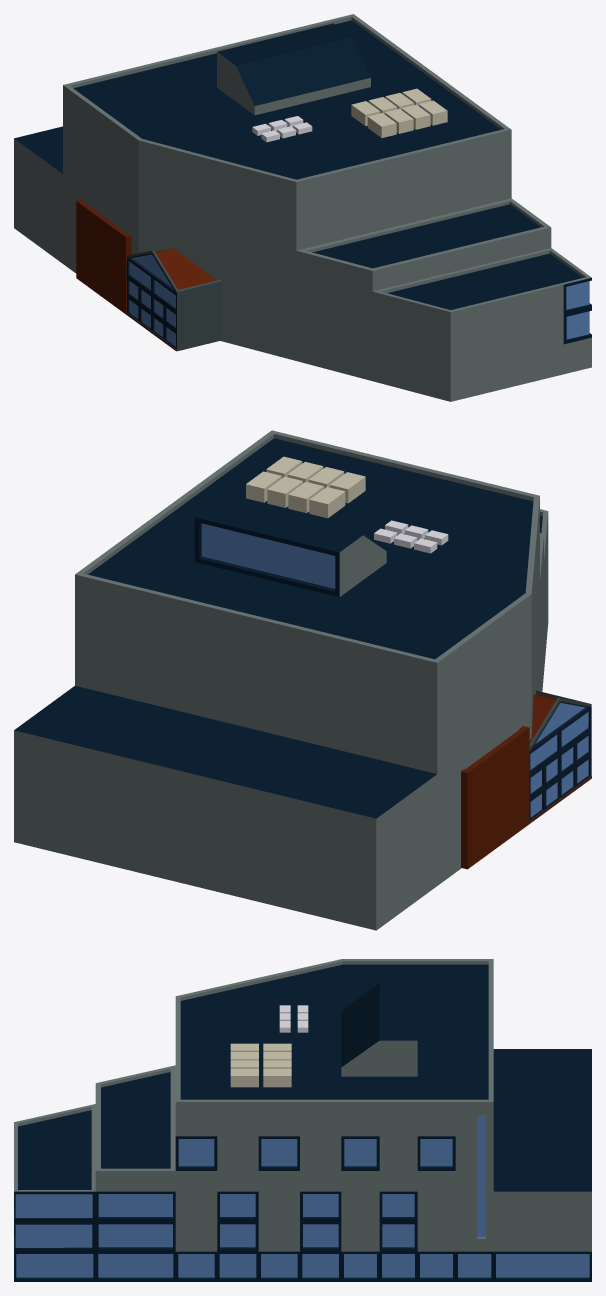
File: Buildings.fbx
3 views of the same model, one above another, from view 1: azimuth 30°, elevation 25°; view 2: azimuth 150°, elevation 25°; view 3: azimuth 270°, elevation 25° (orthographic). The views are drawn at different scales.
Visible parts, largest first — view 1: Cube.003, Cube.004, Cube.002, Cube.001; view 2: Cube.003, Cube.002, Cube.004, Cube.001; view 3: Cube.003, Cube.001.
Part boxes in pixels (x1,y1,x2,y2): Cube.003: (14, 14, 591, 401); Cube.004: (127, 248, 221, 351); Cube.002: (76, 199, 176, 350); Cube.001: (252, 116, 312, 142); Cube.003: (14, 430, 548, 930); Cube.002: (461, 726, 591, 869); Cube.004: (529, 690, 591, 820); Cube.001: (374, 520, 448, 553); Cube.003: (14, 959, 591, 1281); Cube.001: (279, 1005, 308, 1032).
Bounding box in the file's own units: 682 × 465 × 1146.
